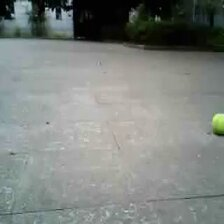tennis: (213, 112, 224, 135)
